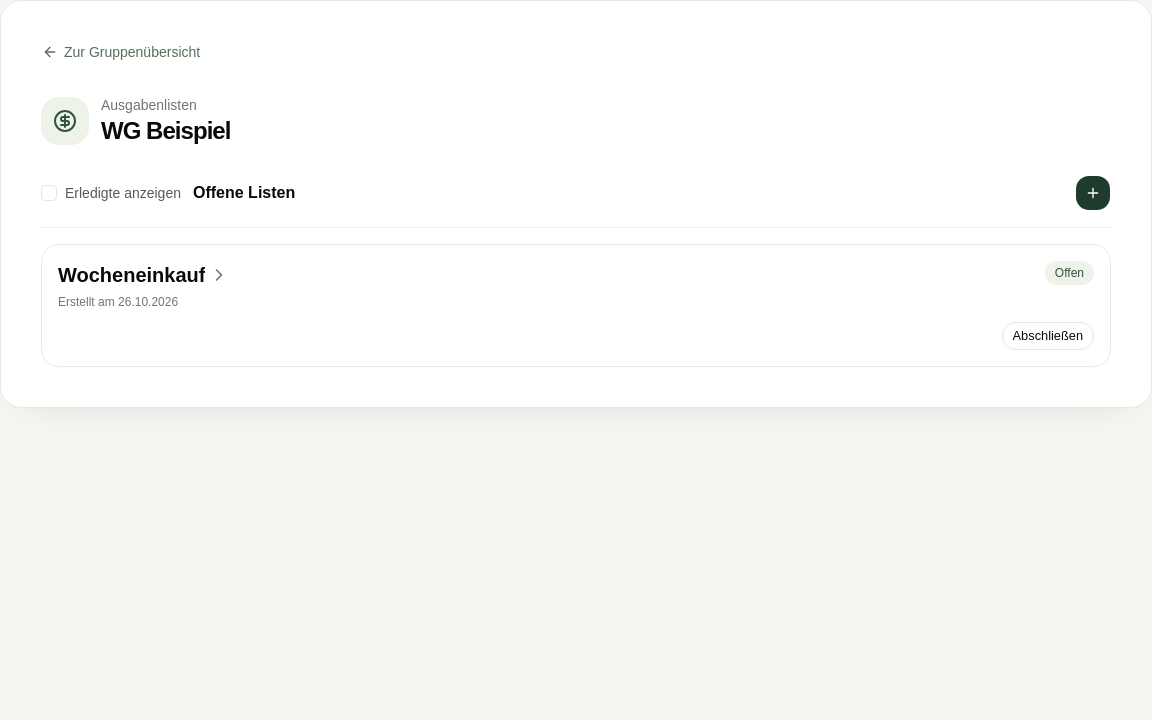
Scenario: ExpenseLists › opens list creation in a dialog without inserting a form into the list
Check: the heading "Wocheneinkauf" is shown, box x1=58 y1=261 x2=229 y2=290
Click the button named "Neue Ausgabenliste hinzufügen": (1093, 193) x1=1075 y1=175 x2=1111 y2=211
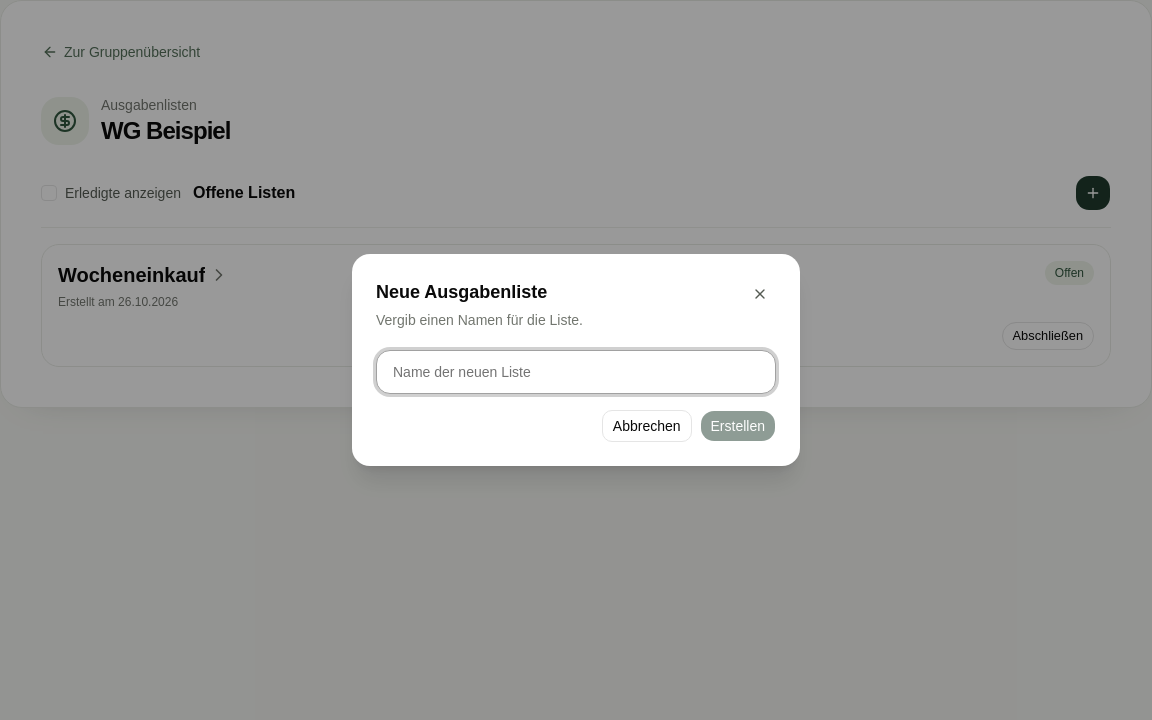
Check: the heading "Wocheneinkauf" is shown, box x1=58 y1=261 x2=229 y2=290
Check: the dialog "Neue Ausgabenliste" is shown, box x1=352 y1=254 x2=800 y2=466
